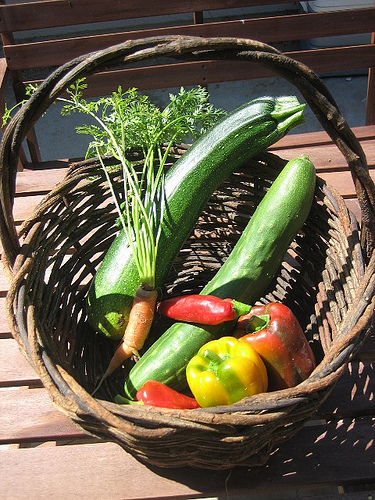cucumber: (91, 92, 305, 346), (122, 153, 315, 398)
